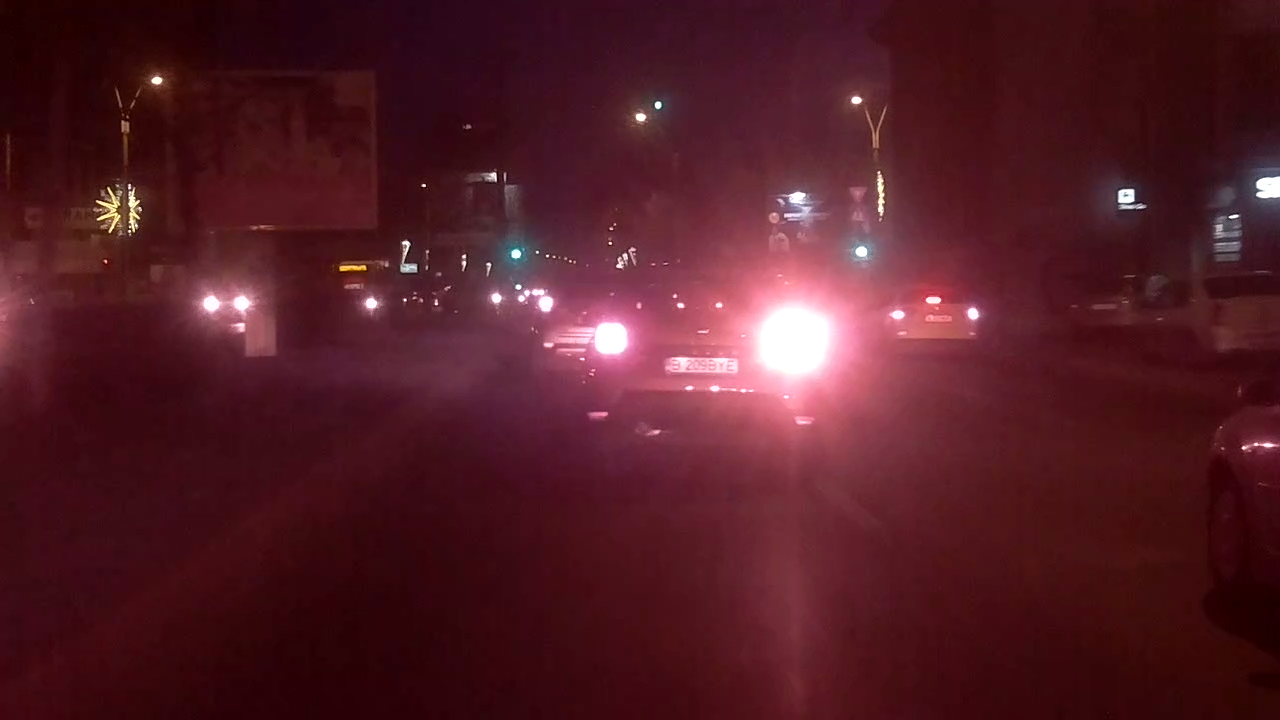license-plate: (663, 354, 741, 377)
